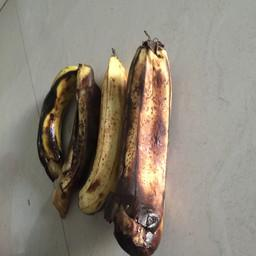Bad_banana: (34, 34, 172, 253), (130, 32, 169, 255), (41, 57, 93, 216)
